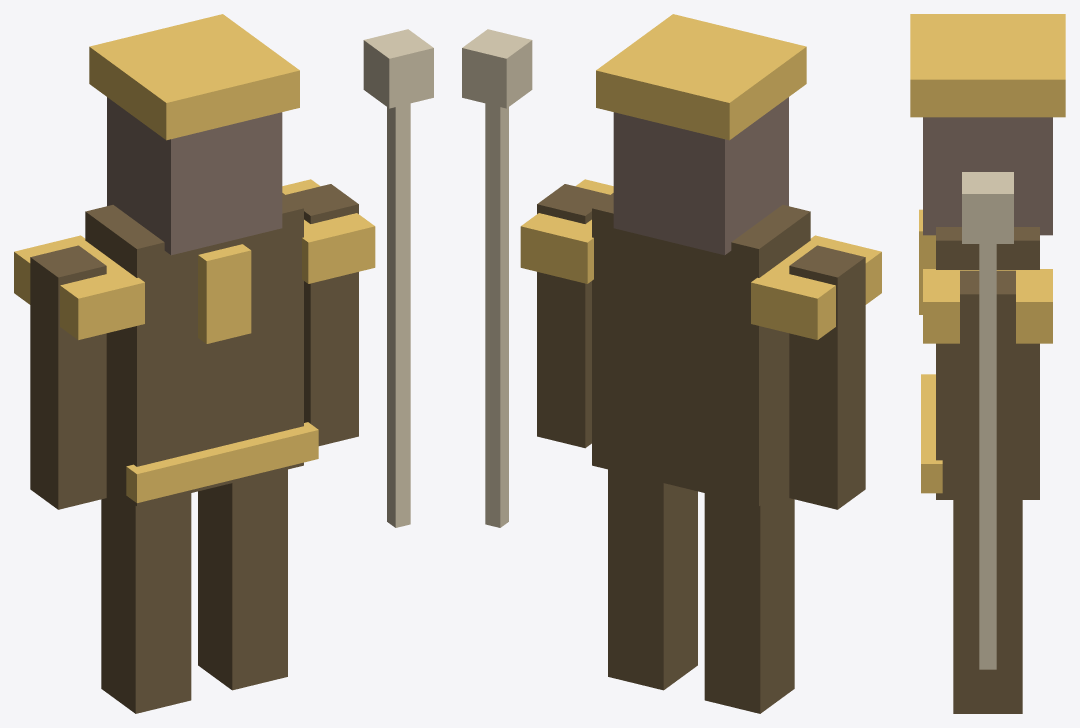
File: 11_juno_glassroot_responder_from.glb
3 renders of one model, left to right at view 1: azimuth 30°, elevation 25°; view 2: azimuth 150°, elevation 25°; view 3: azimuth 270°, elevation 25°, orthographic.
Parts seen in each view (by area): view 1: Juno Glassroot, Responder from; view 2: Juno Glassroot, Responder from; view 3: Juno Glassroot, Responder from.
Boxes of the visible parts, x1,y1,x2,y2 form: Juno Glassroot, Responder from: [14, 14, 433, 713]; Juno Glassroot, Responder from: [462, 14, 881, 713]; Juno Glassroot, Responder from: [910, 14, 1065, 713].
Size of the model in its own units: 1.06 by 1.67 by 0.3746.
